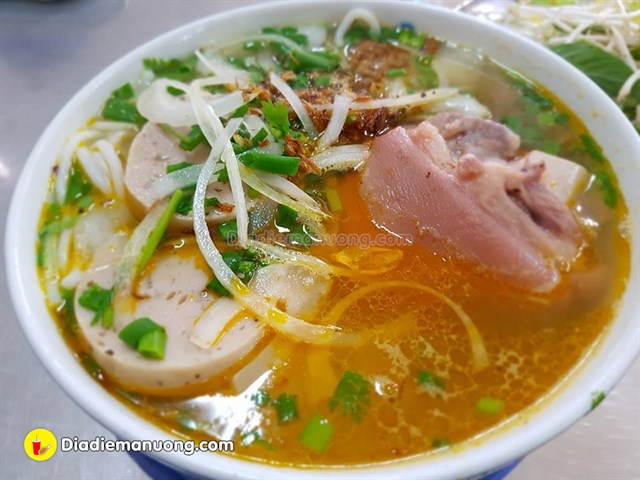chamoc: (78, 252, 311, 374)
onion: (204, 98, 290, 179)
pork: (367, 126, 591, 289)
